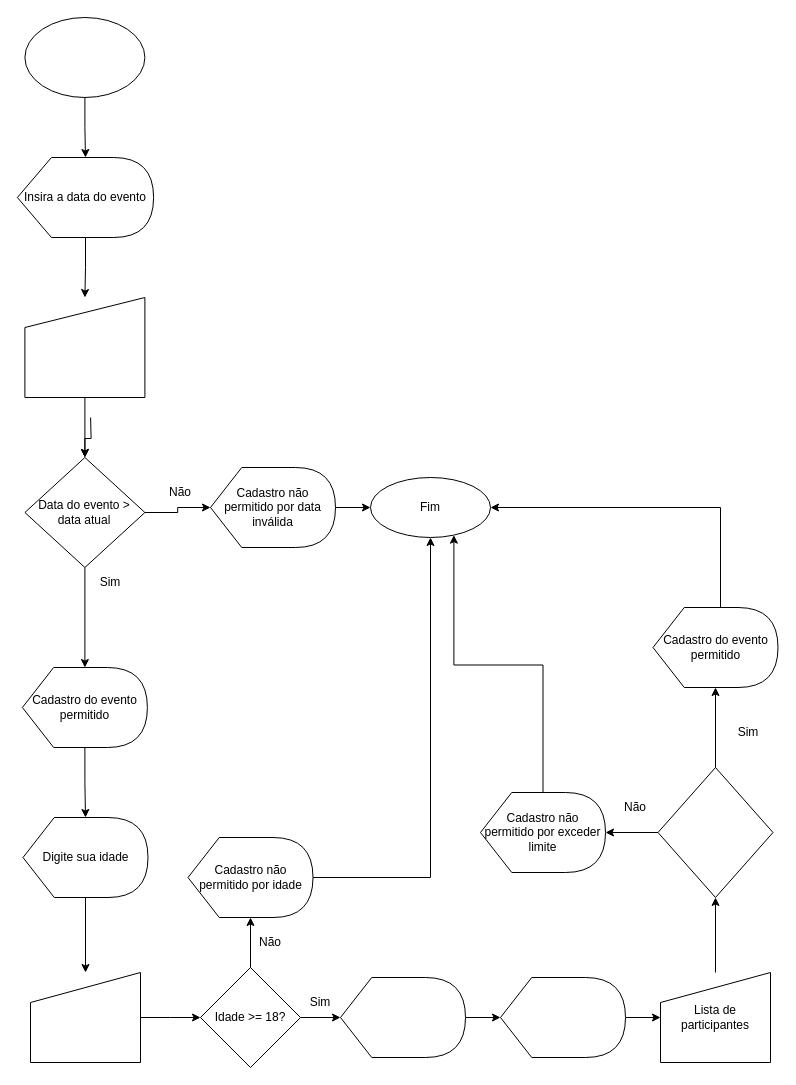
This 796x1085 diagram has some shape labels left out. The shapes that lost their labels are listed below. From the top down, each one's box as (x1, y1, x2, y2) in pixels, then its label:
(24, 16, 145, 98): INICIO
(24, 296, 145, 398): Data do evento
(657, 766, 773, 898): Número de participantes <= 100?
(30, 972, 140, 1062): Idade informada
(340, 976, 466, 1058): Cadastro permitido
(500, 976, 626, 1058): Insira os nomes dos participantes
